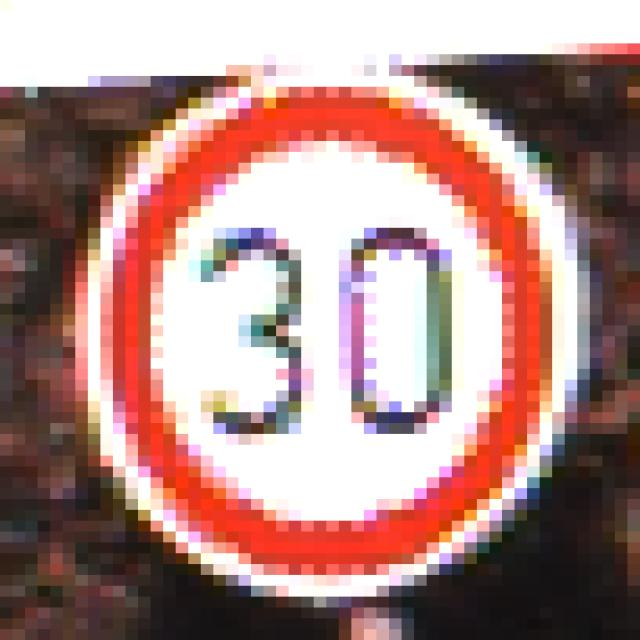Speed Limit -30-: (56, 49, 558, 580)
